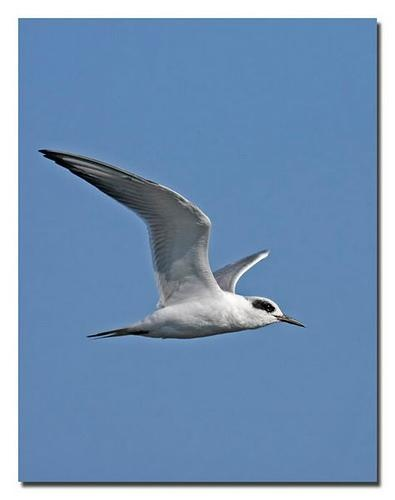bird: (35, 147, 306, 341)
